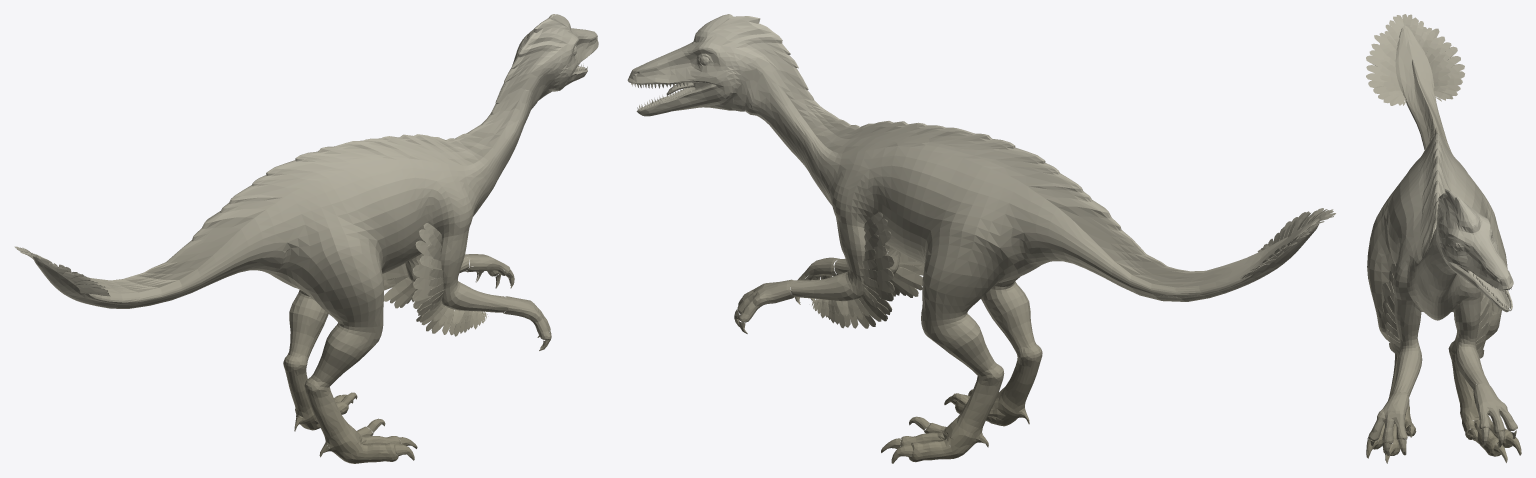
File: troodon.glb
The picture shows the model from 3 angles, left to right: view 1: azimuth 30°, elevation 25°; view 2: azimuth 150°, elevation 25°; view 3: azimuth 270°, elevation 25°; orthographic projection. The views are drawn at different scales.
Visible parts, largest first — view 1: world; view 2: world; view 3: world.
Part boxes in pixels (x1,y1,x2,y2): world: [14, 14, 598, 463]; world: [627, 14, 1335, 463]; world: [1366, 14, 1521, 463].
Size of the model in its own units: 0.8338 by 0.4619 by 0.188.
